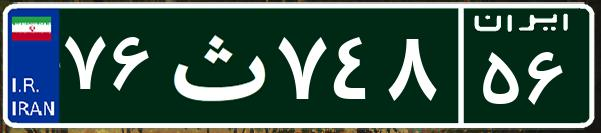4: (330, 28, 385, 110)
5: (475, 38, 525, 113)
6: (110, 28, 158, 105), (525, 38, 570, 115)
7: (273, 28, 330, 110), (57, 26, 110, 107)
8: (385, 28, 445, 110)
ث: (158, 15, 273, 115)
